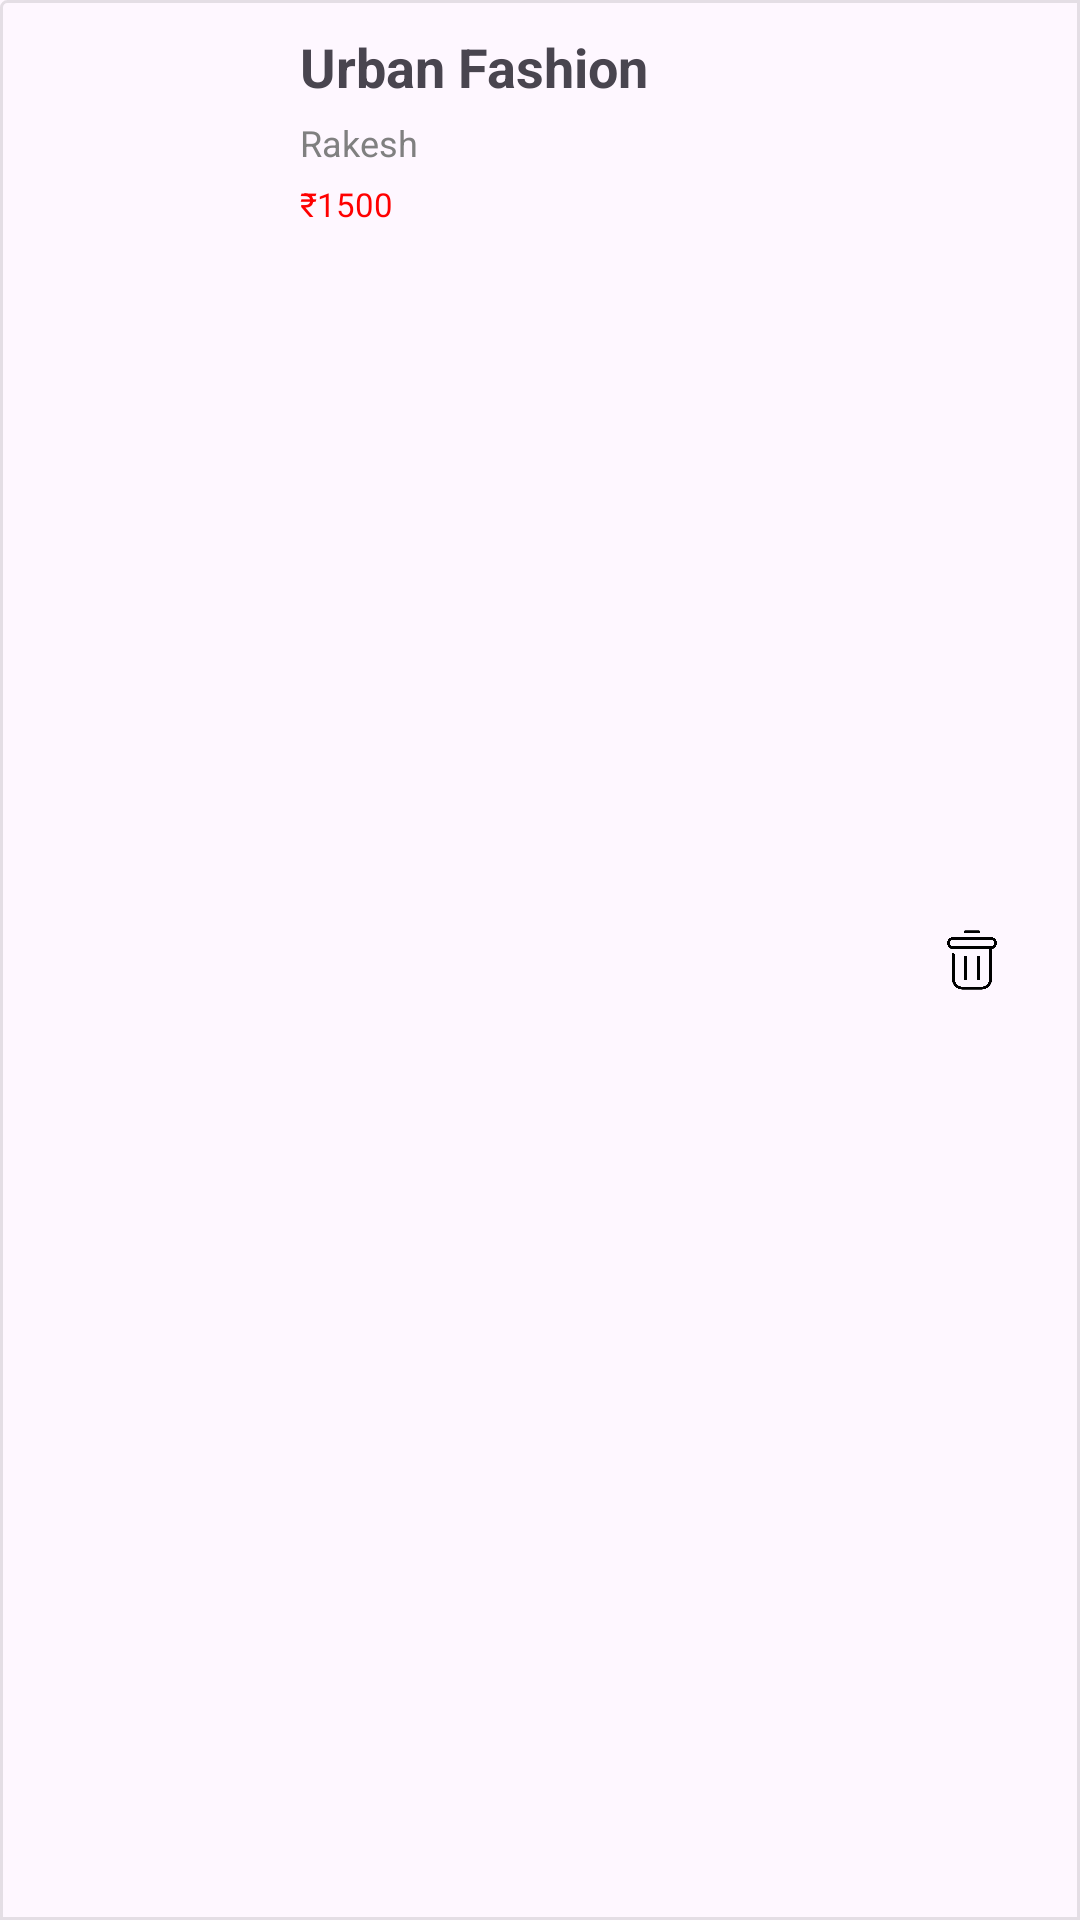

Icons on this 1080×1920 Android screen, each with its box as (x1, y1, x2, y2):
delete: (947, 930, 997, 990)
